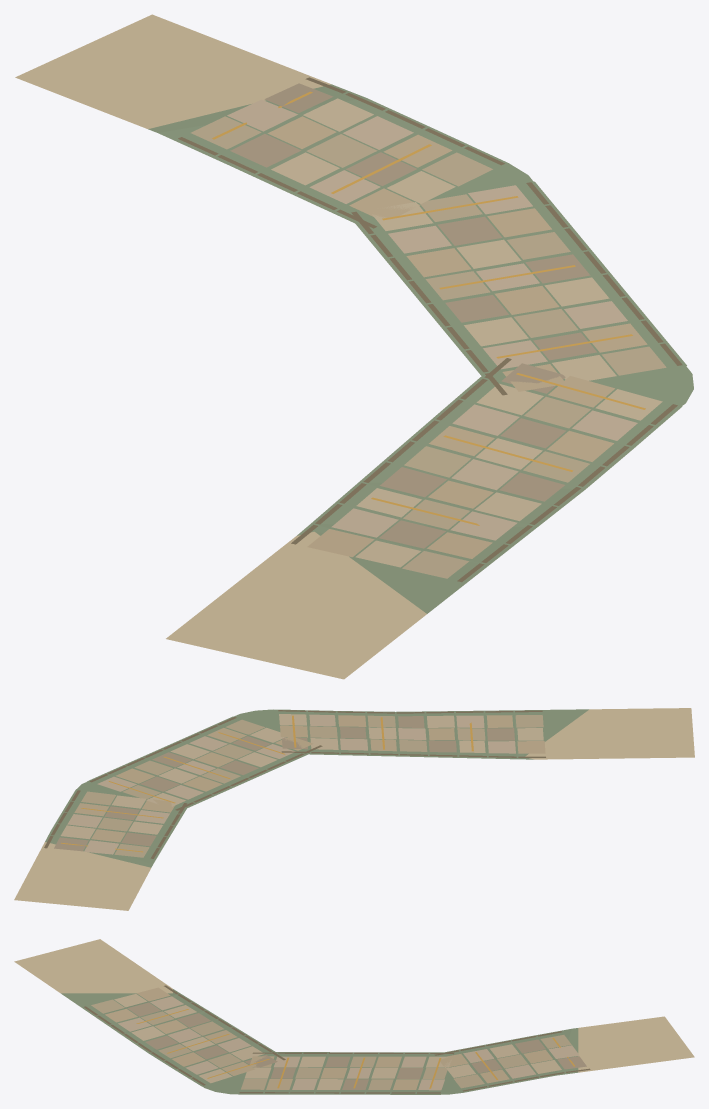
The model's file is route-steps_s-bank-ramp.glb.
3 views of the same model, one above another, from view 1: azimuth 30°, elevation 25°; view 2: azimuth 150°, elevation 25°; view 3: azimuth 270°, elevation 25° (orthographic). The views are drawn at different scales.
Visible parts, largest first — view 1: Surveyed floor · route-steps_s-bank-ramp, Reed Steps to Dry Bank / #C9B798, Reed Steps to Dry Bank / #C2AE8D, Reed Steps to Dry Bank / #BDAD8E, Reed Steps to Dry Bank / #C7B399, Reed Steps to Dry Bank / #AE9D84, Reed Steps to Dry Bank / #85775D, Reed Steps to Dry Bank / brass; view 2: Surveyed floor · route-steps_s-bank-ramp, Reed Steps to Dry Bank / #C9B798, Reed Steps to Dry Bank / #C2AE8D, Reed Steps to Dry Bank / #C7B399, Reed Steps to Dry Bank / #BDAD8E, Reed Steps to Dry Bank / #AE9D84, Reed Steps to Dry Bank / #85775D, Reed Steps to Dry Bank / brass; view 3: Surveyed floor · route-steps_s-bank-ramp, Reed Steps to Dry Bank / #C9B798, Reed Steps to Dry Bank / #C2AE8D, Reed Steps to Dry Bank / #BDAD8E, Reed Steps to Dry Bank / #C7B399, Reed Steps to Dry Bank / #AE9D84, Reed Steps to Dry Bank / #85775D, Reed Steps to Dry Bank / brass.
Boxes of the visible parts, left/top/right/bottom form: Surveyed floor · route-steps_s-bank-ramp: left=15, top=14, right=693, bottom=679; Reed Steps to Dry Bank / #C9B798: left=271, top=98, right=662, bottom=567; Reed Steps to Dry Bank / #C2AE8D: left=267, top=116, right=647, bottom=558; Reed Steps to Dry Bank / #BDAD8E: left=191, top=116, right=666, bottom=578; Reed Steps to Dry Bank / #C7B399: left=227, top=99, right=637, bottom=540; Reed Steps to Dry Bank / #AE9D84: left=230, top=83, right=596, bottom=548; Reed Steps to Dry Bank / #85775D: left=178, top=77, right=682, bottom=582; Reed Steps to Dry Bank / brass: left=212, top=91, right=645, bottom=525; Surveyed floor · route-steps_s-bank-ramp: left=14, top=708, right=694, bottom=910; Reed Steps to Dry Bank / #C9B798: left=60, top=714, right=543, bottom=839; Reed Steps to Dry Bank / #C2AE8D: left=74, top=715, right=545, bottom=842; Reed Steps to Dry Bank / #C7B399: left=67, top=714, right=515, bottom=854; Reed Steps to Dry Bank / #BDAD8E: left=81, top=715, right=543, bottom=857; Reed Steps to Dry Bank / #AE9D84: left=54, top=716, right=514, bottom=851; Reed Steps to Dry Bank / #85775D: left=44, top=710, right=545, bottom=858; Reed Steps to Dry Bank / brass: left=61, top=715, right=473, bottom=852; Surveyed floor · route-steps_s-bank-ramp: left=14, top=939, right=694, bottom=1094; Reed Steps to Dry Bank / #C9B798: left=114, top=994, right=561, bottom=1089; Reed Steps to Dry Bank / #C2AE8D: left=105, top=987, right=552, bottom=1089; Reed Steps to Dry Bank / #BDAD8E: left=91, top=999, right=571, bottom=1089; Reed Steps to Dry Bank / #C7B399: left=118, top=996, right=579, bottom=1090; Reed Steps to Dry Bank / #AE9D84: left=127, top=1002, right=586, bottom=1089; Reed Steps to Dry Bank / #85775D: left=84, top=985, right=590, bottom=1093; Reed Steps to Dry Bank / brass: left=136, top=1009, right=574, bottom=1088.
Bounding box in the file's own units: 28.34 × 1.83 × 47.02.
